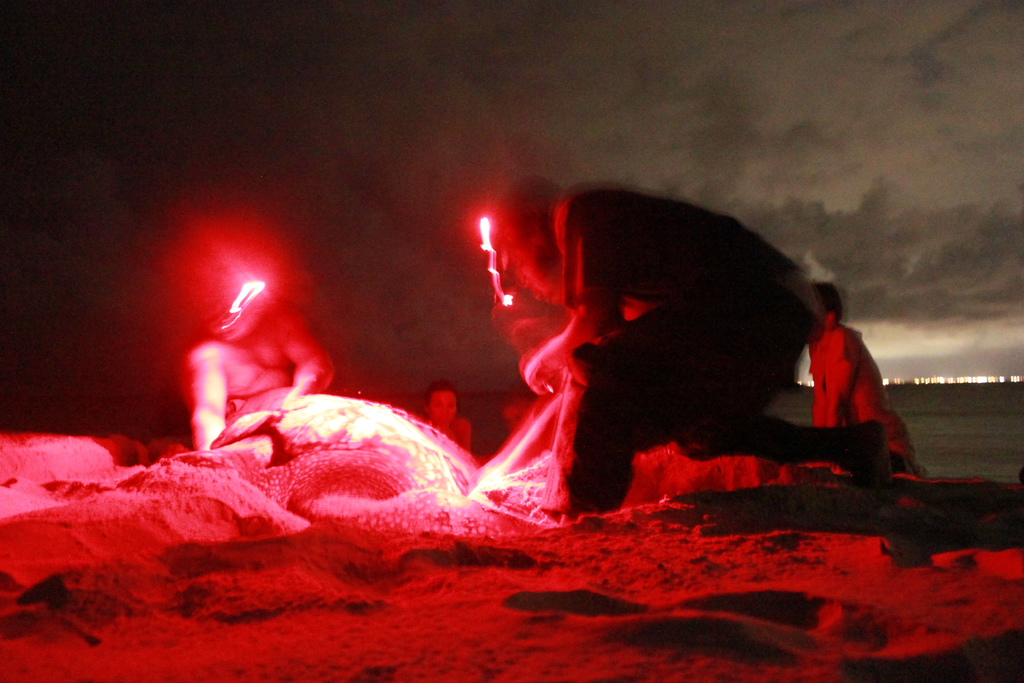Person: (482, 173, 895, 513), (810, 287, 923, 477), (421, 386, 474, 447)
